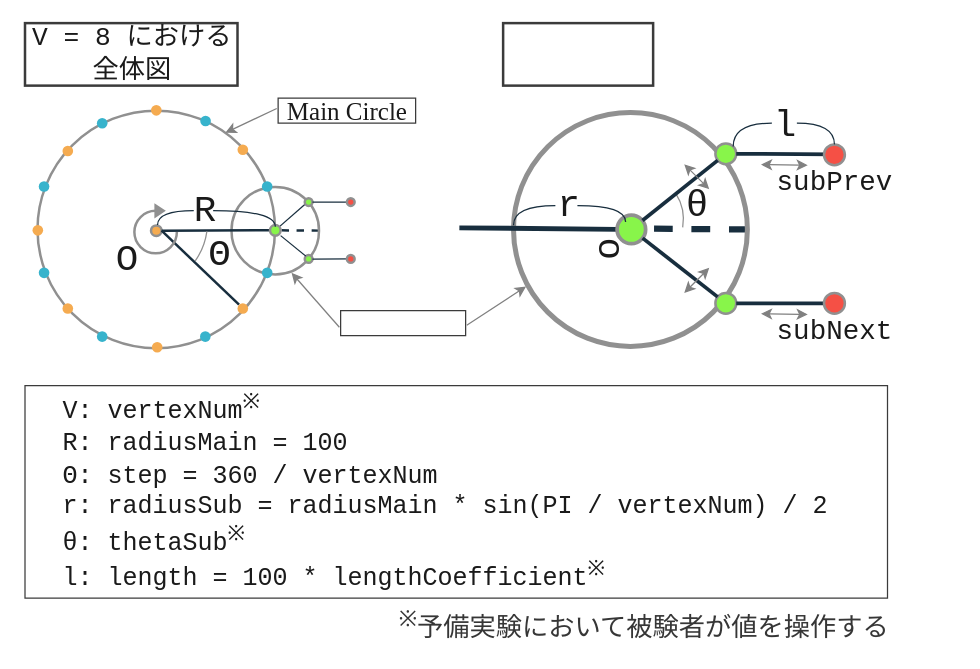
Image size: 980x669. Some labels were removed from this diagram. Here are the shapes that lost their labels. From the top down, the centre of each, then its label:
At point 577,53: "Sub Circle の 拡大図".
At point 402,322: "Sub Circle".
